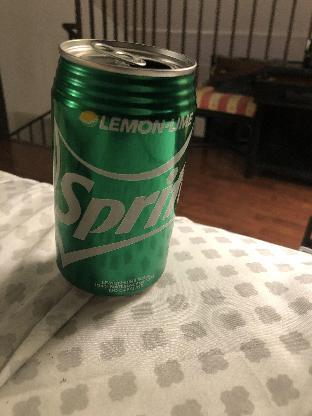Can: (50, 38, 198, 298)
